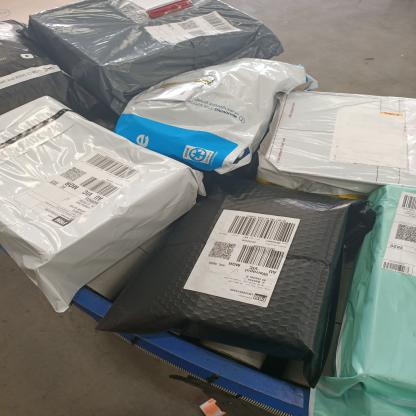label: (195, 202, 312, 335), (34, 155, 143, 241), (131, 16, 256, 49), (382, 194, 416, 286)
package: (112, 193, 354, 372), (0, 95, 203, 296), (15, 0, 288, 93), (110, 55, 312, 173), (263, 89, 413, 195)
